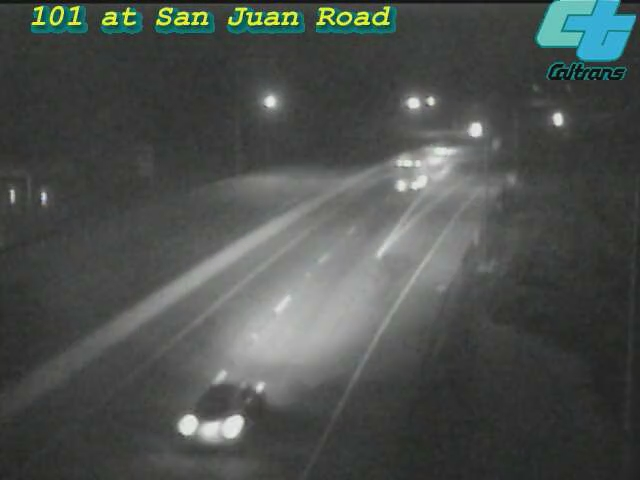vehicle: (174, 354, 284, 464), (371, 131, 451, 211), (446, 104, 496, 154), (533, 94, 583, 144), (423, 123, 473, 173), (405, 131, 455, 181)
